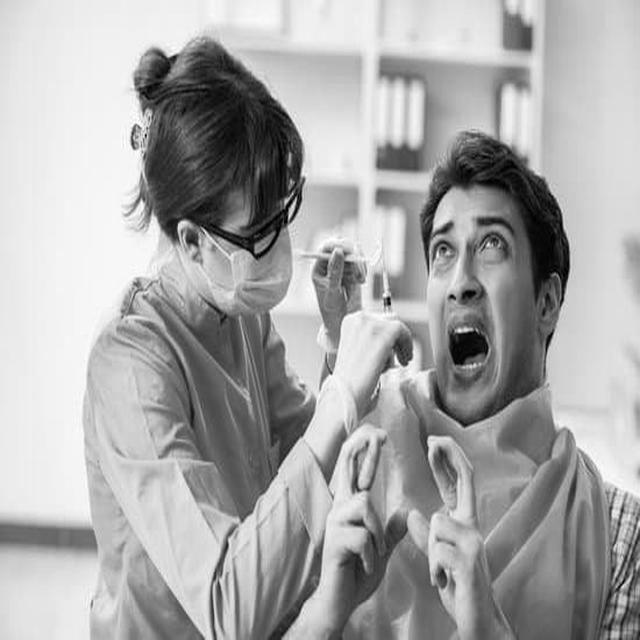Fear: (429, 186, 531, 421)
